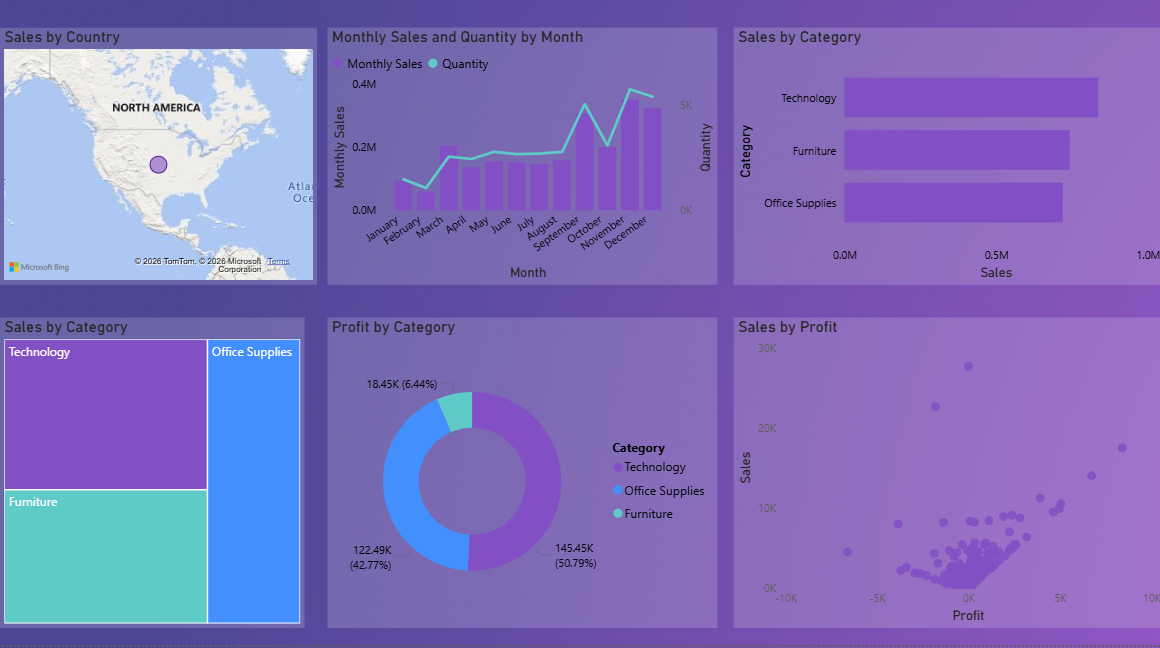

This screenshot's page, from the dashboard's own definition file:
{"tool":"powerbi","page":{"name":"Page 2","canvas":[1280,720],"ordinal":1},"visuals":[{"type":"barChart","fields":{"Category":["sample_-_superstore xls - Orders.Category"],"Y":["Sum(sample_-_superstore xls - Orders.Sales)"]},"box":[806.1,41.1,473.9,282.4],"z":0},{"type":"lineClusteredColumnComboChart","fields":{"Category":["sample_-_superstore xls - Orders.Order Date.Variation.Date Hierarchy.Month"],"Y":["Sum(sample_-_superstore xls - Orders.Sales)"],"Y2":["Sum(sample_-_superstore xls - Orders.Quantity)"]},"box":[359.5,41.1,427.9,282.4],"z":2},{"type":"scatterChart","fields":{"Y":["Sum(sample_-_superstore xls - Orders.Sales)"],"X":["sample_-_superstore xls - Orders.Profit"]},"box":[806.1,359.5,473.9,340.8],"z":3},{"type":"donutChart","fields":{"Y":["Sum(sample_-_superstore xls - Orders.Profit)"],"Category":["sample_-_superstore xls - Orders.Category"]},"box":[359.5,359.5,427.9,340.8],"z":4},{"type":"treemap","fields":{"Group":["sample_-_superstore xls - Orders.Category"],"Values":["Sum(sample_-_superstore xls - Orders.Sales)"]},"box":[0,359.5,334.6,340.8],"z":5},{"type":"map","fields":{"Size":["Sum(sample_-_superstore xls - Orders.Sales)"],"Category":["sample_-_superstore xls - Orders.Country"]},"box":[0,41.1,348.3,282.4],"z":6}]}

Visuals, with their boxes in screenshot pixels (x1, y1, x2, y2), scaled from the page's 1280x720 canvas onto the 1160x648 screenshot:
barChart - sample_-_superstore xls - Orders.Category x Sum(sample_-_superstore xls - Orders.Sales): box=[731, 37, 1159, 291]
lineClusteredColumnComboChart - sample_-_superstore xls - Orders.Order Date.Variation.Date Hierarchy.Month x Sum(sample_-_superstore xls - Orders.Sales): box=[326, 37, 714, 291]
scatterChart - Sum(sample_-_superstore xls - Orders.Sales) x sample_-_superstore xls - Orders.Profit: box=[731, 324, 1159, 630]
donutChart - Sum(sample_-_superstore xls - Orders.Profit) x sample_-_superstore xls - Orders.Category: box=[326, 324, 714, 630]
treemap - sample_-_superstore xls - Orders.Category x Sum(sample_-_superstore xls - Orders.Sales): box=[0, 324, 303, 630]
map - Sum(sample_-_superstore xls - Orders.Sales) x sample_-_superstore xls - Orders.Country: box=[0, 37, 316, 291]
